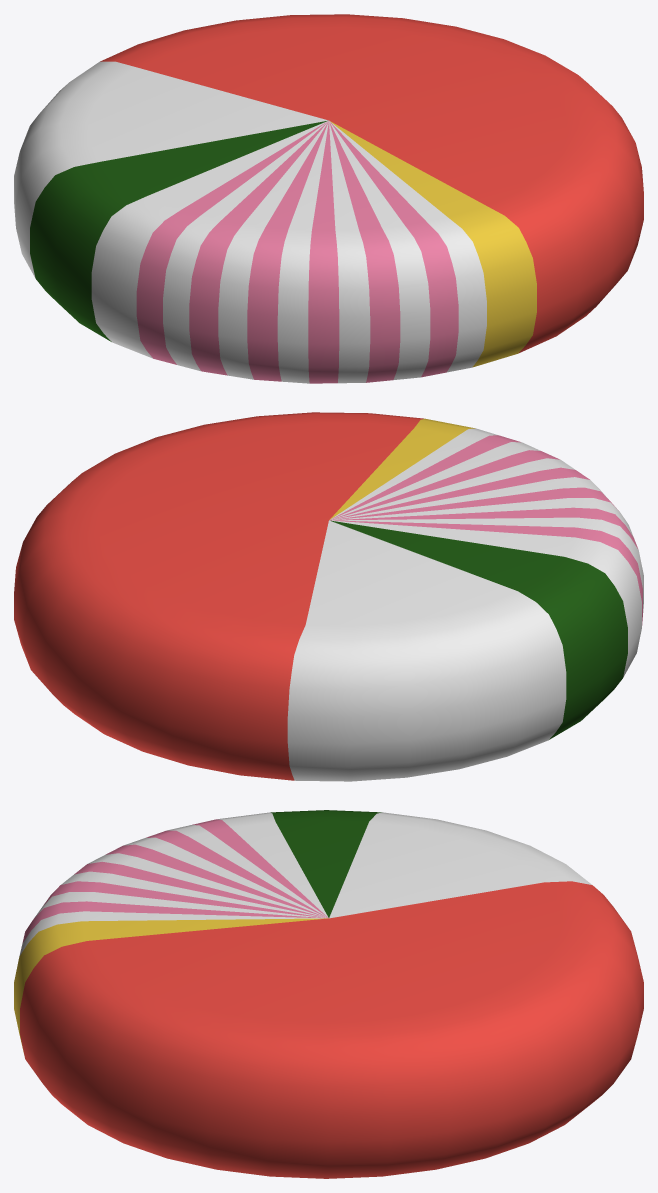
The model's file is candy.glb.
3 views of the same model, one above another, from view 1: azimuth 30°, elevation 25°; view 2: azimuth 150°, elevation 25°; view 3: azimuth 270°, elevation 25° (orthographic).
Parts seen in each view (by area): view 1: Cylinder; view 2: Cylinder; view 3: Cylinder.
Part boxes in pixels (<box>): Cylinder: <box>14,14,643,383</box>; Cylinder: <box>14,412,643,781</box>; Cylinder: <box>14,810,643,1178</box>.
Size of the model in its own units: 1.83 by 0.4895 by 1.83.
